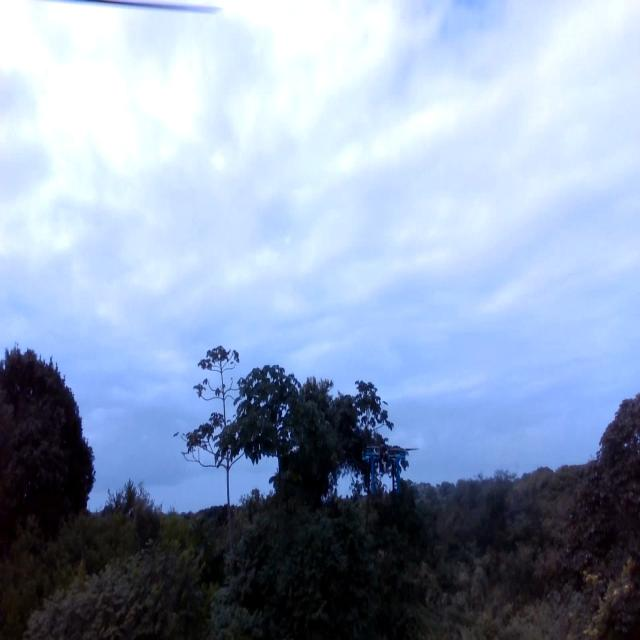-uav-: (354, 426, 415, 504)
